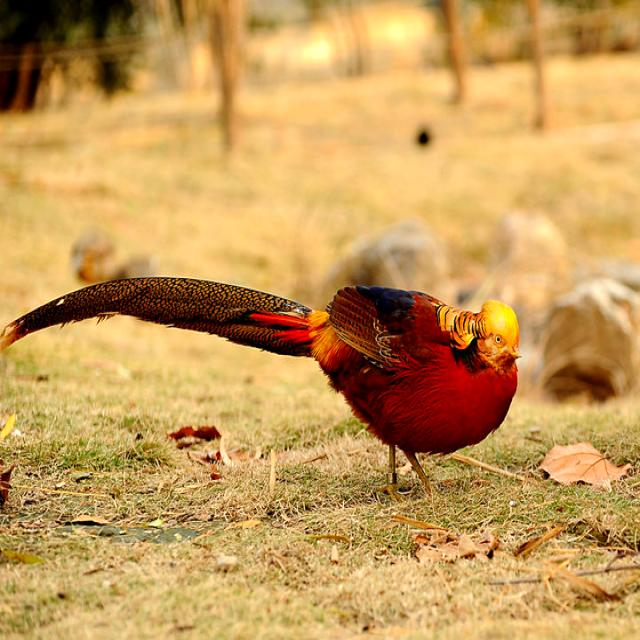Chrysolophus pictus feather: (0, 277, 311, 355)
